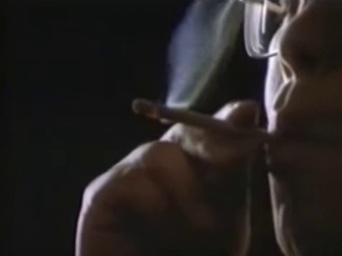smoke: (130, 95, 269, 142)
